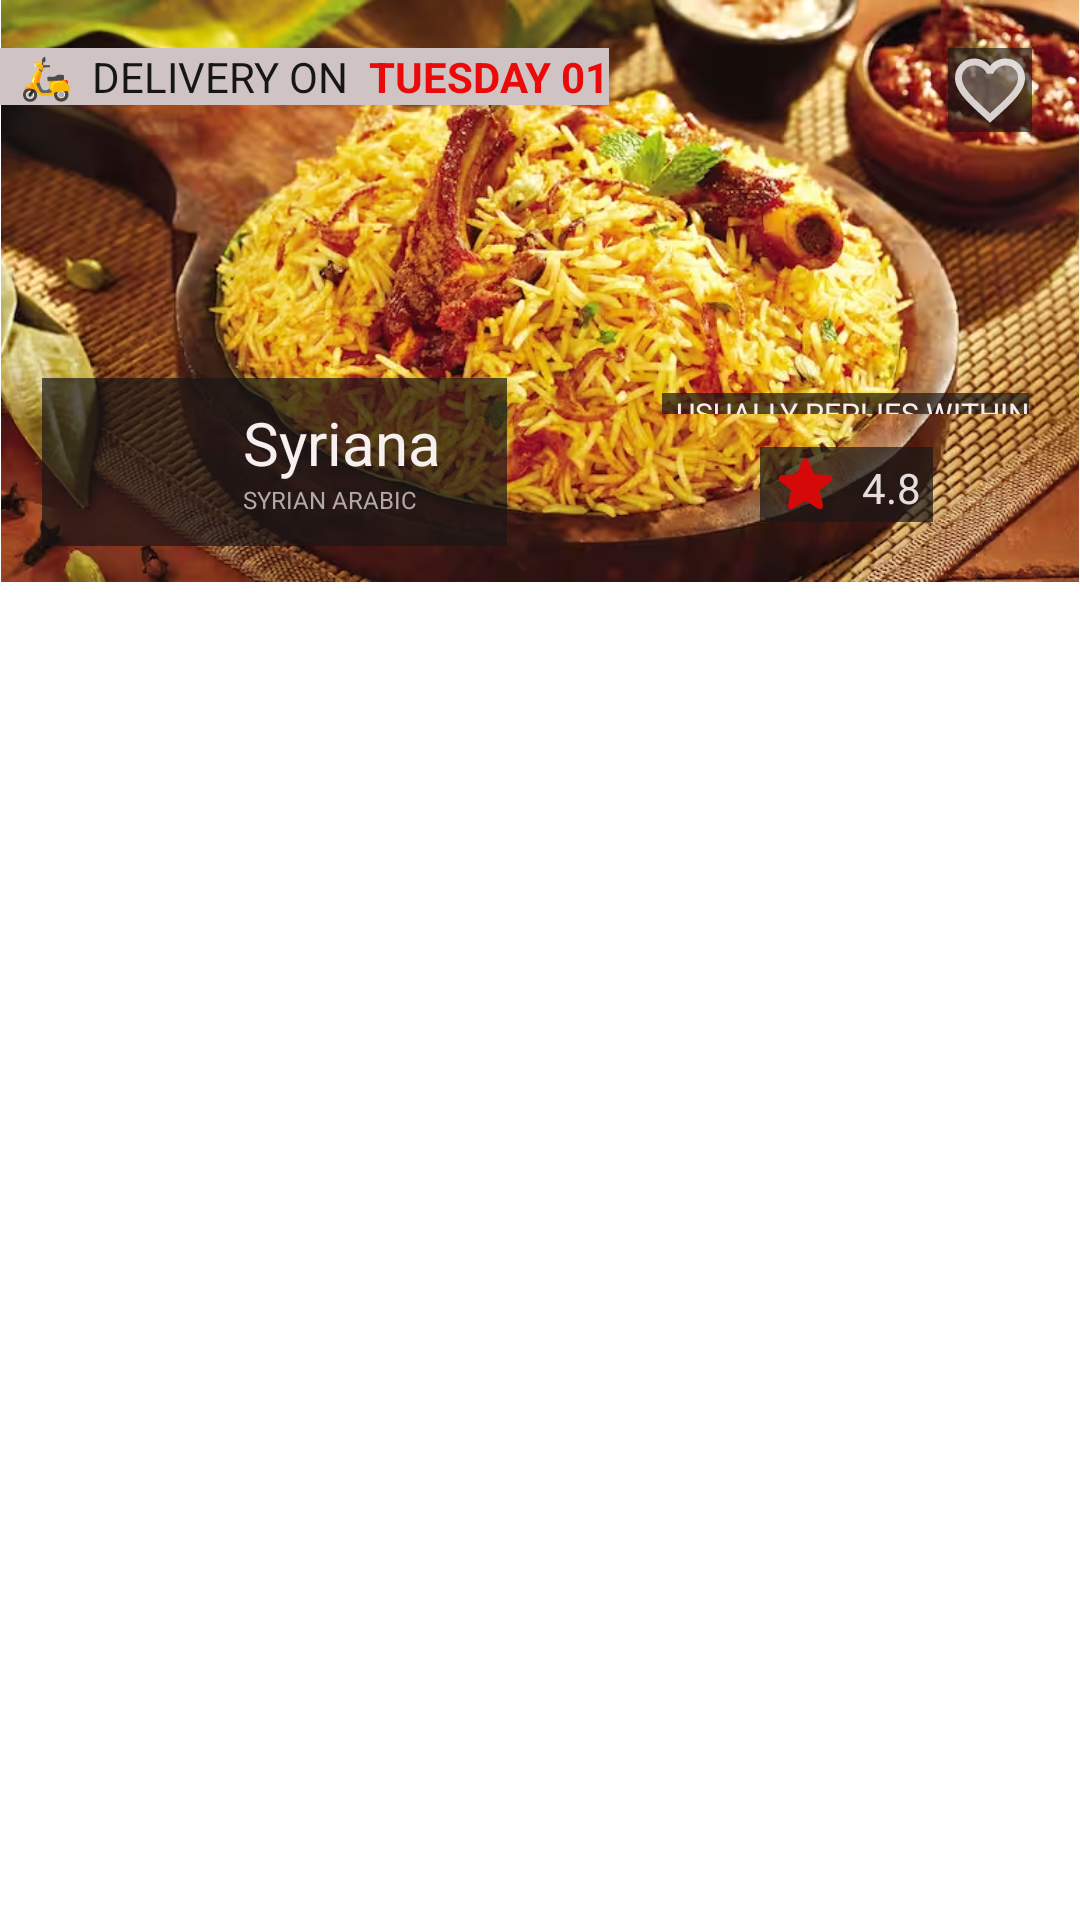

Icons on this 1080×1920 Android screen, each with the point to tap as (x=x, y=y):
favorite: (x=990, y=90)
star: (x=805, y=484)
